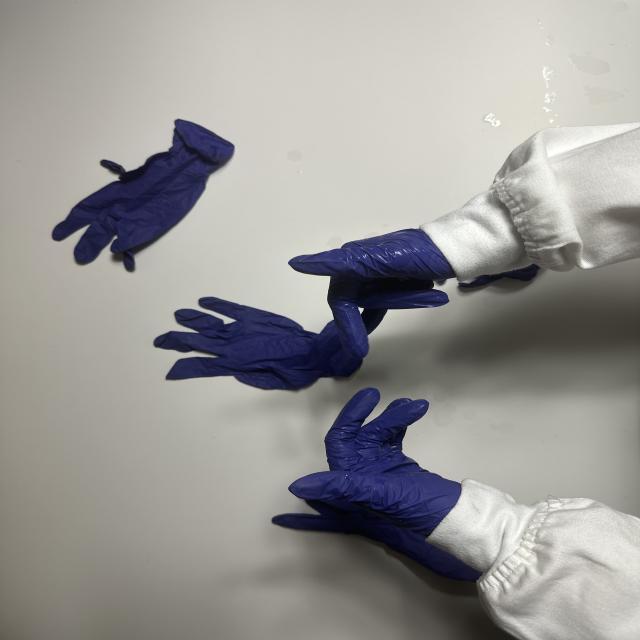gloves_contaminated: (289, 388, 462, 538), (289, 229, 455, 358)
